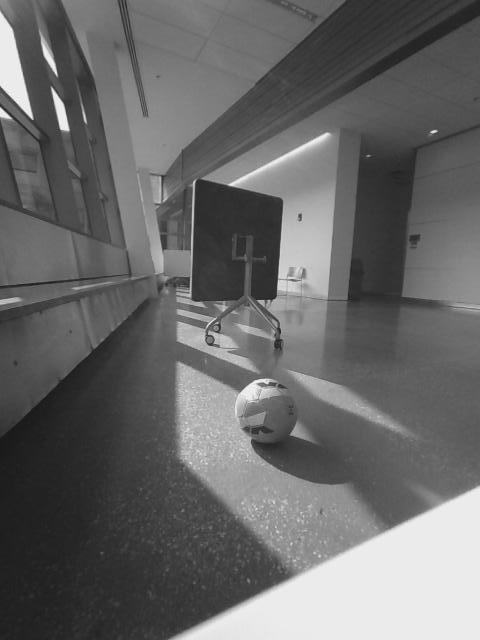ball: (231, 372, 302, 446)
